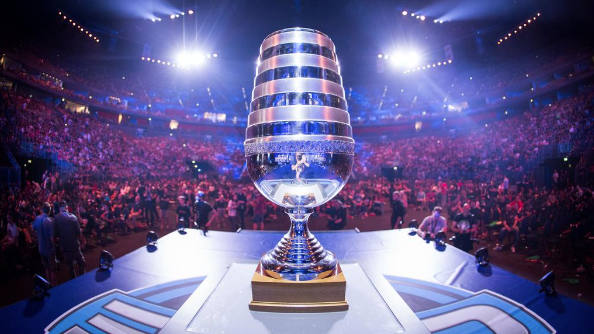trophy: (246, 27, 358, 317)
